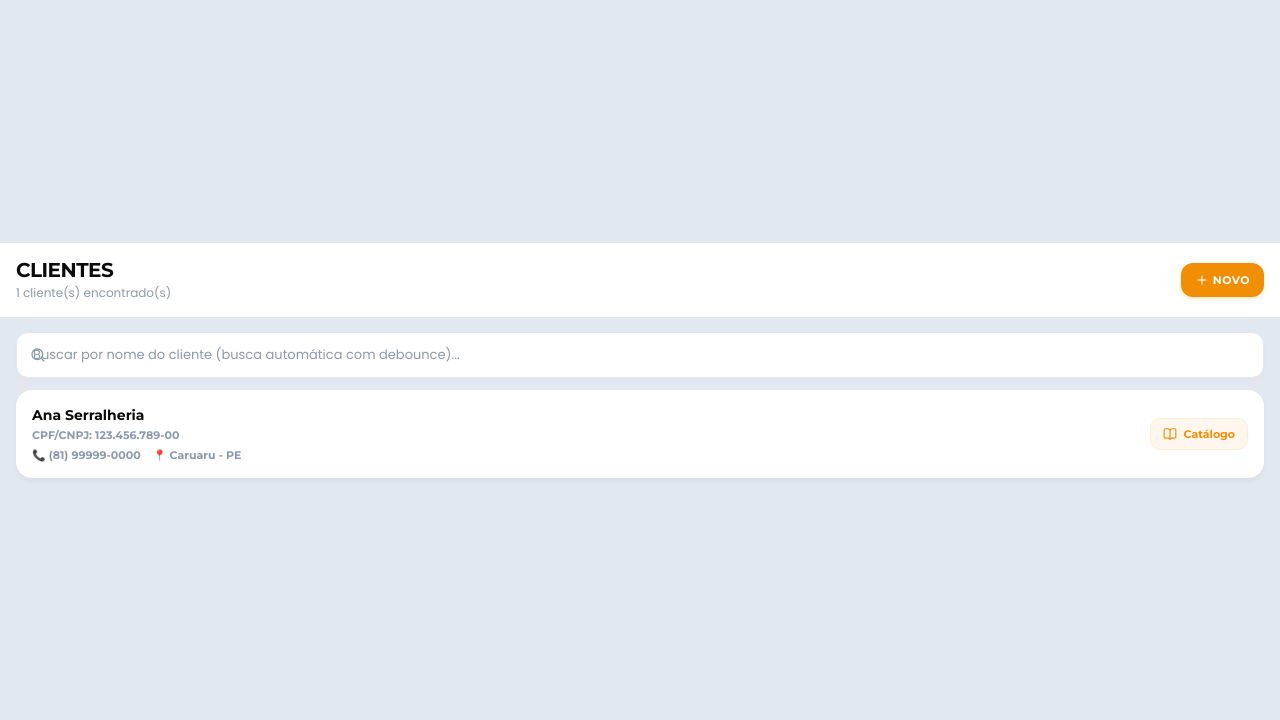
it: Clientes – cadastro › trata resposta não-JSON do servidor (HTML de erro 500)
Click the button "NOVO" at (1222, 280), box left=1181, top=262, right=1264, bottom=296
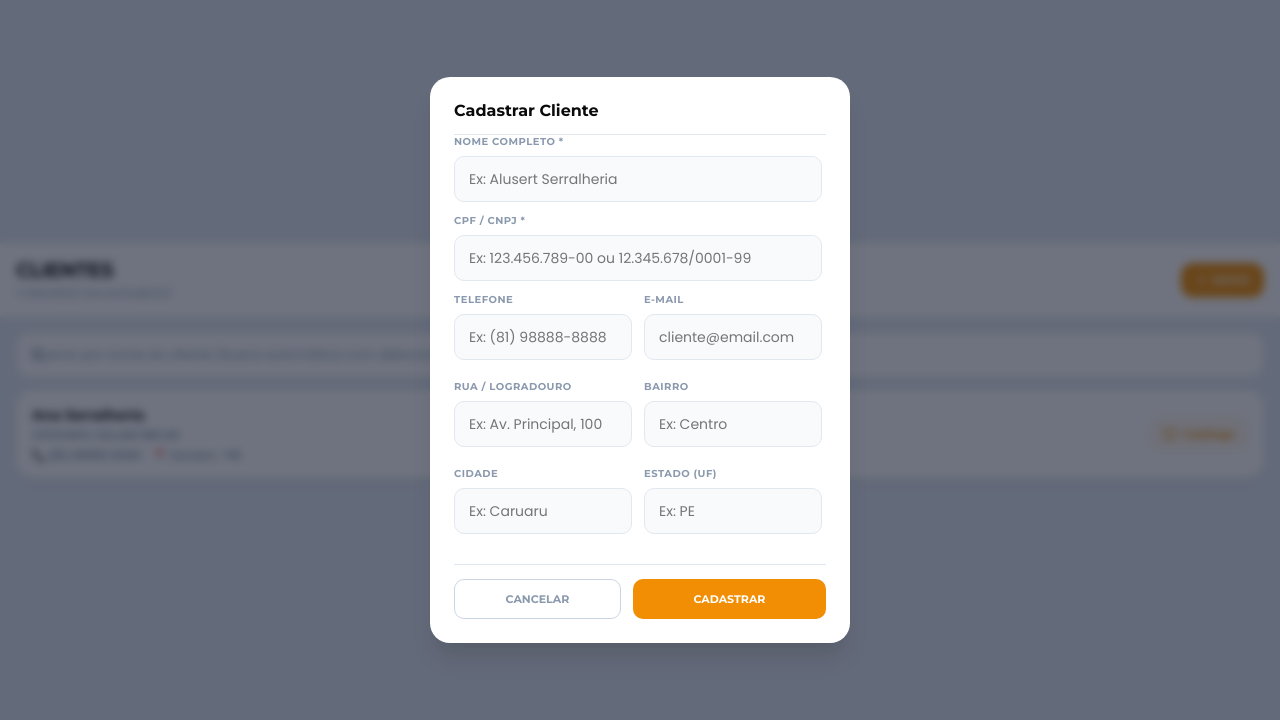
Type "Novo" into the field labelled "NOME COMPLETO *" at (638, 179), box left=454, top=156, right=822, bottom=202
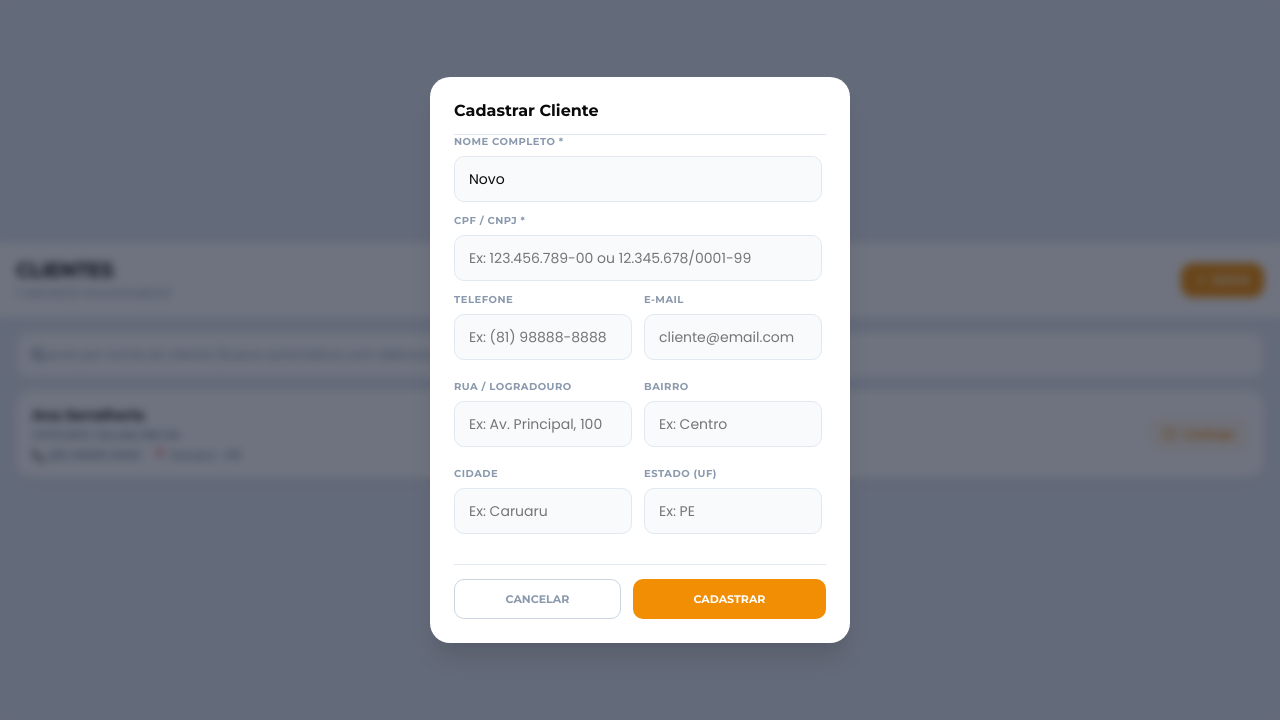
Type "1" into the field labelled "CPF / CNPJ *" at (638, 258), box left=454, top=235, right=822, bottom=281
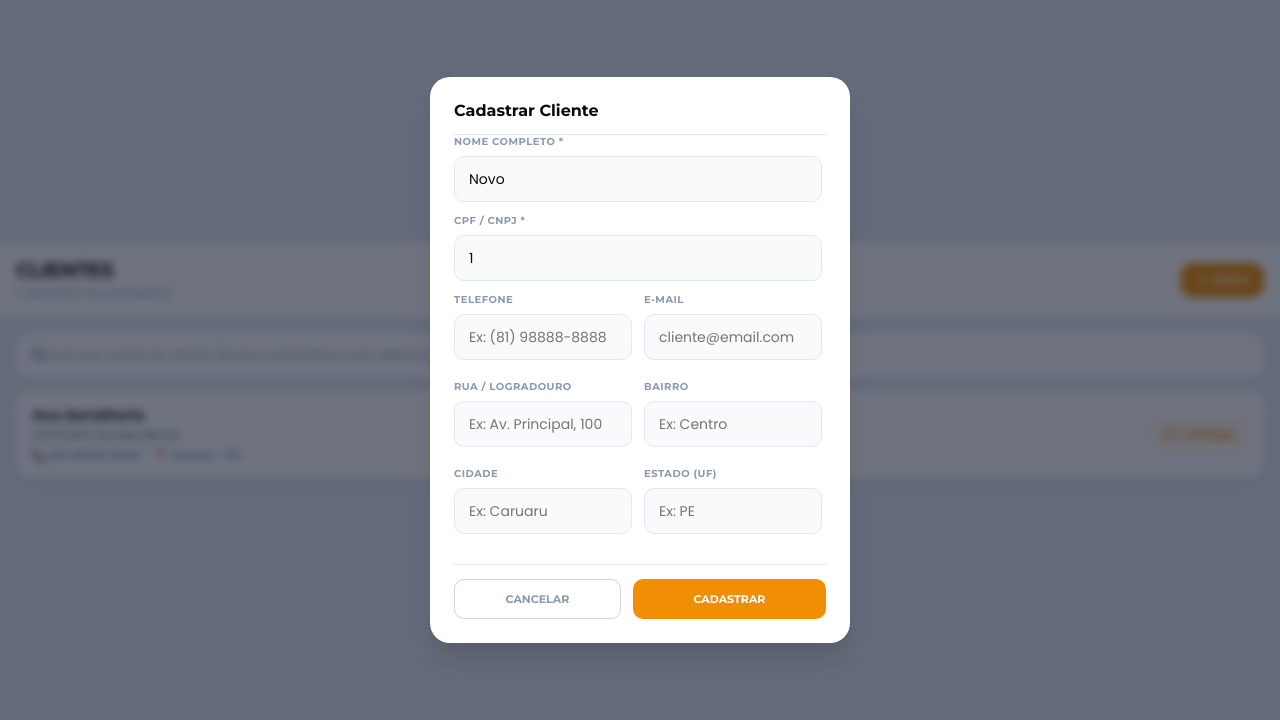
Click the button "CADASTRAR" at (729, 599), box left=633, top=579, right=826, bottom=619
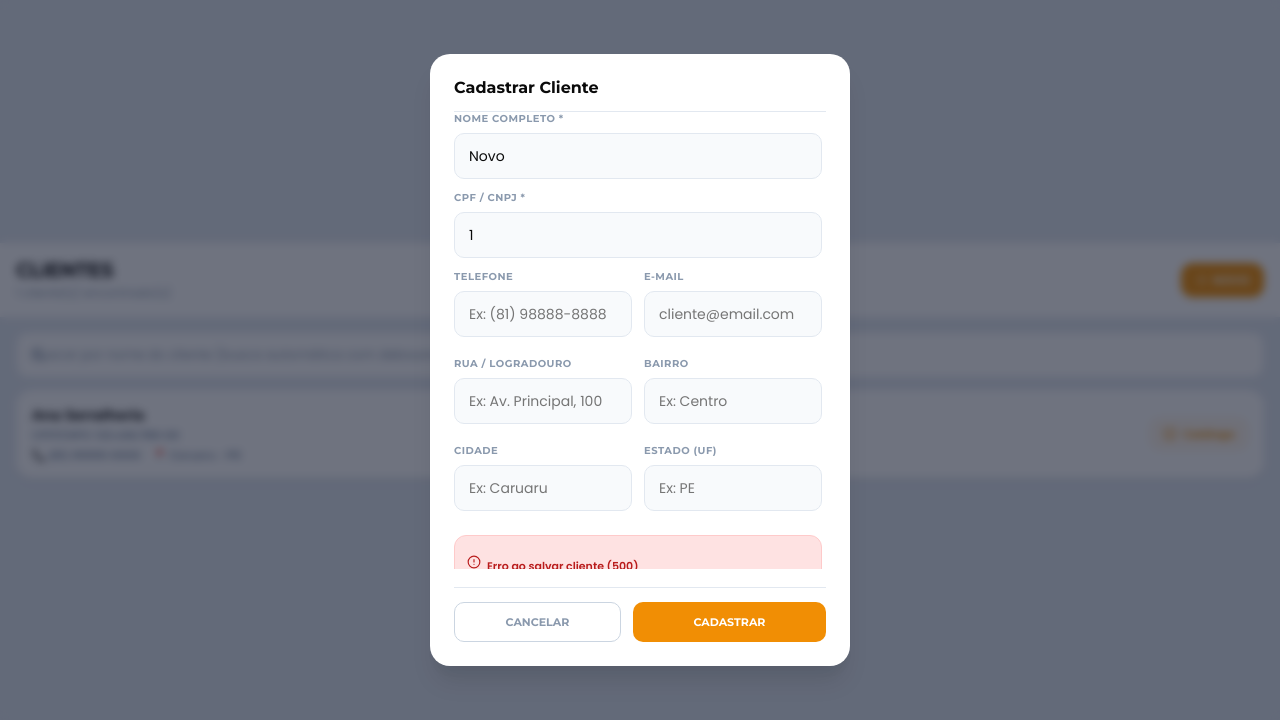
expect the text "Erro ao salvar cliente (500)" is shown: met, box left=487, top=558, right=638, bottom=569
